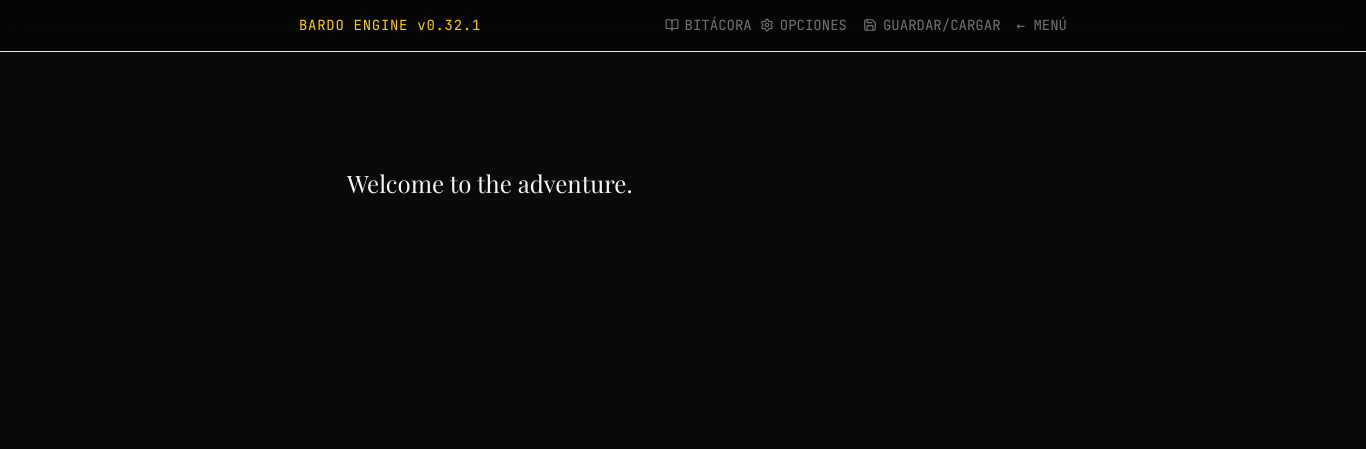
Test case: Player › choices › should render choices when provided and typing complete
Note: Click to skip typewriter
Click the text "Welcome to the adventure." at {"x": 490, "y": 183}, box x1=347 y1=167 x2=632 y2=199
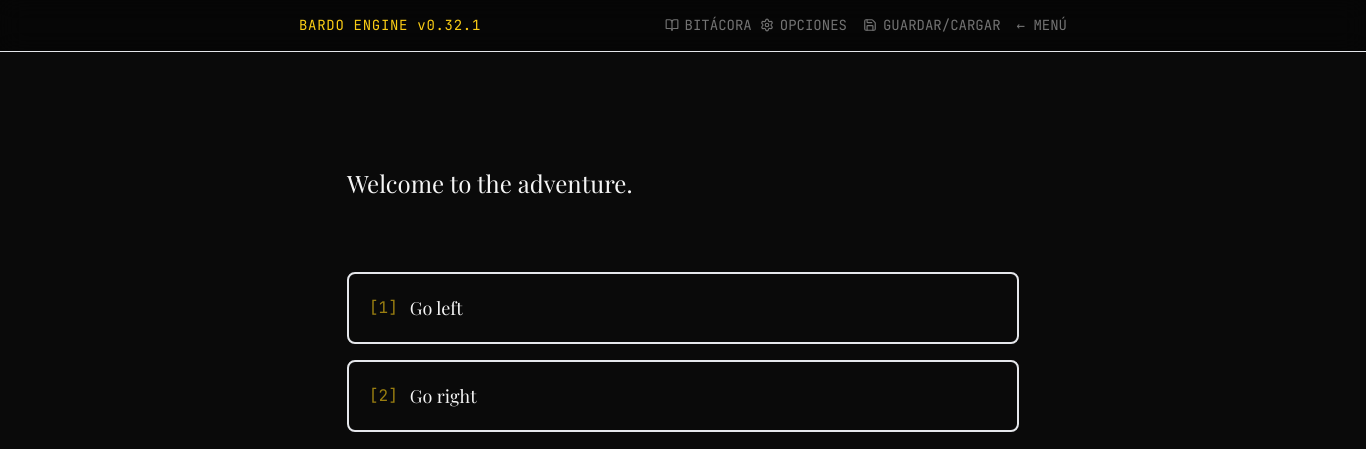
Now the text "Go left" is shown, box x1=410 y1=296 x2=463 y2=320
Now the text "Go right" is shown, box x1=410 y1=384 x2=477 y2=408
